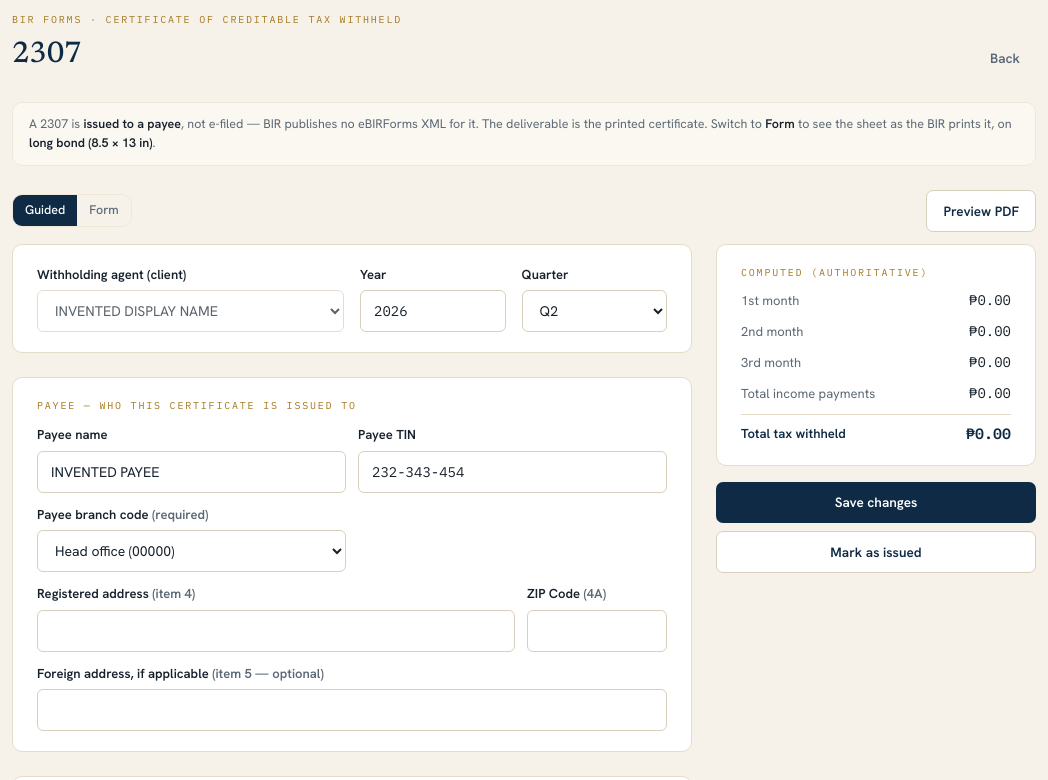
Test: C7 the 2307 prints through the server (D56) › the server's refusal shows word for word
The image size is (1048, 780).
Click the button "Preview PDF".
click(981, 211)  # box top-left (926, 190), bottom-right (1036, 232)
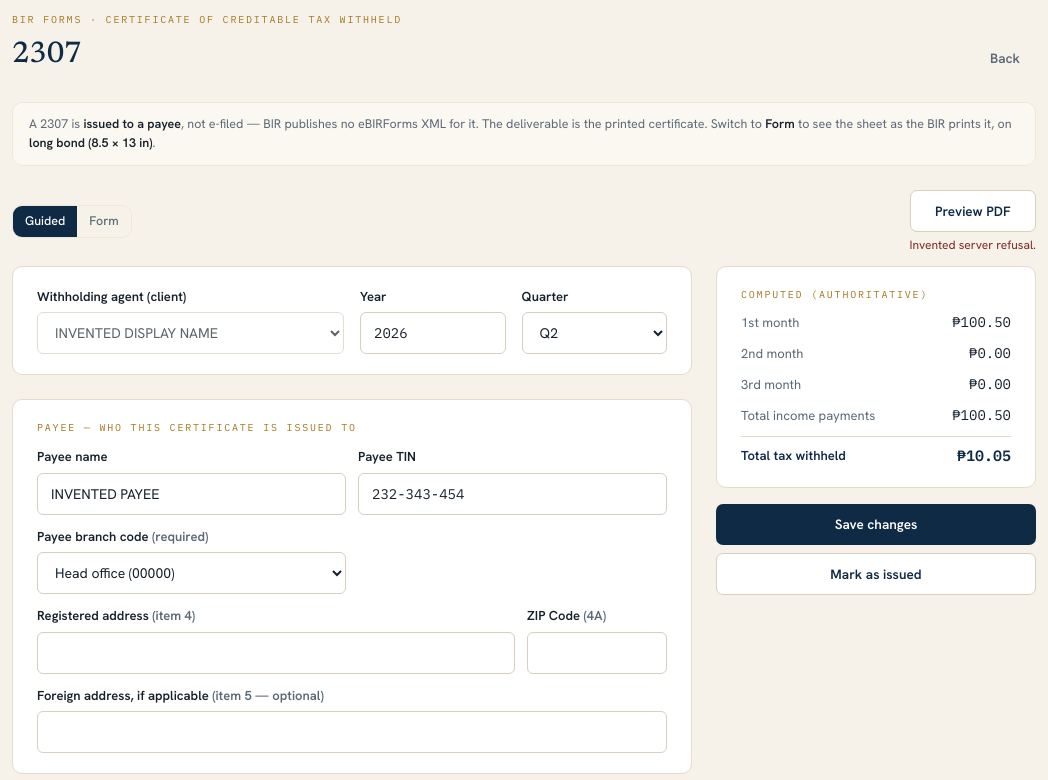
Result: the text "Invented server refusal." is shown at top-left (910, 236), bottom-right (1036, 254)
